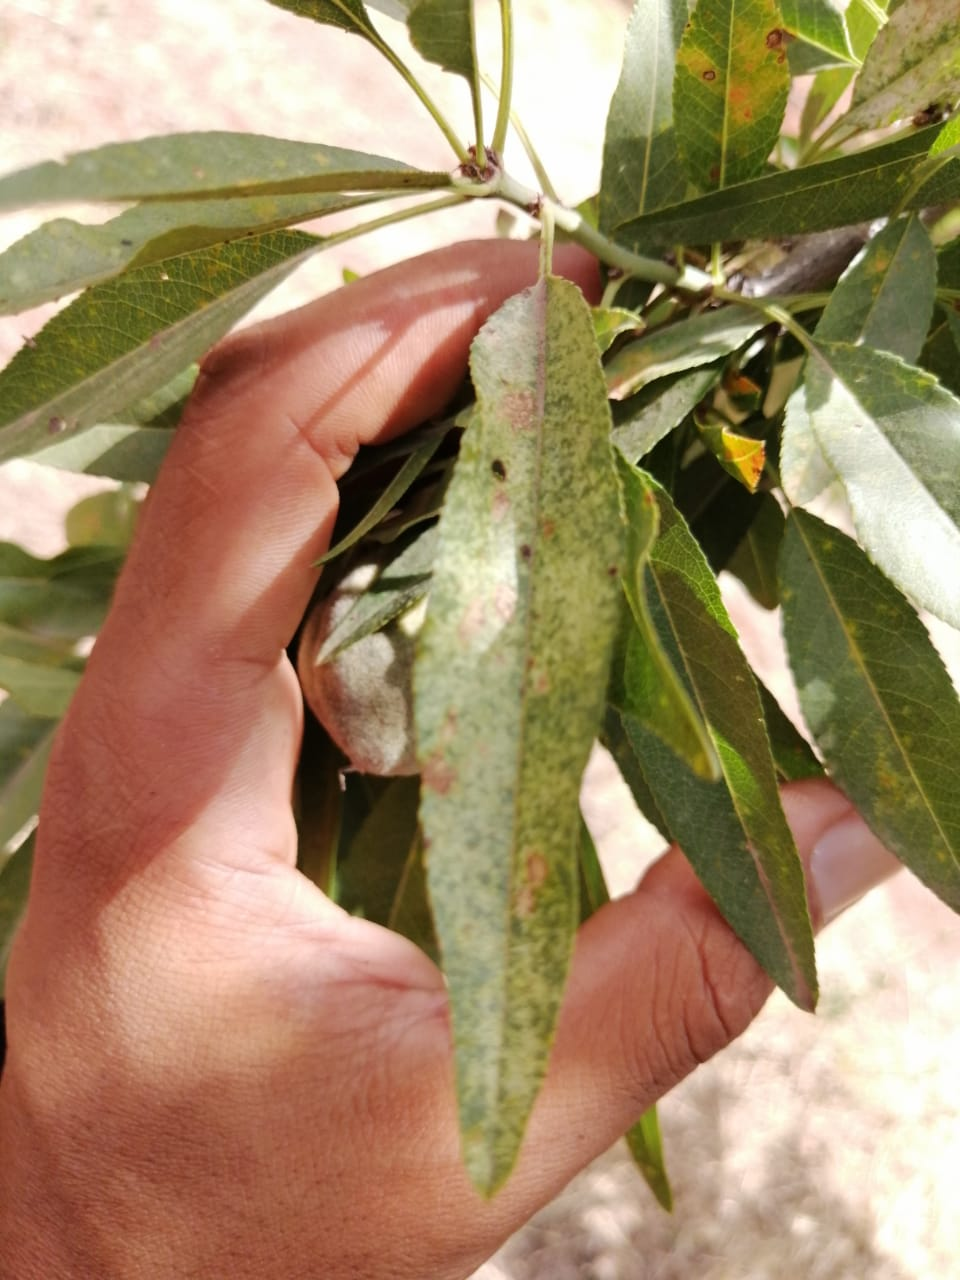faux tigre: (406, 275, 629, 1202)
